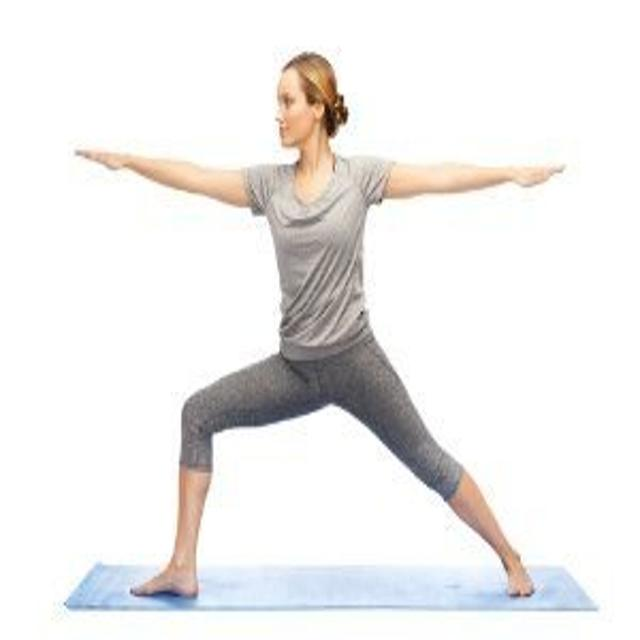Warrior_II: (70, 48, 572, 593)
